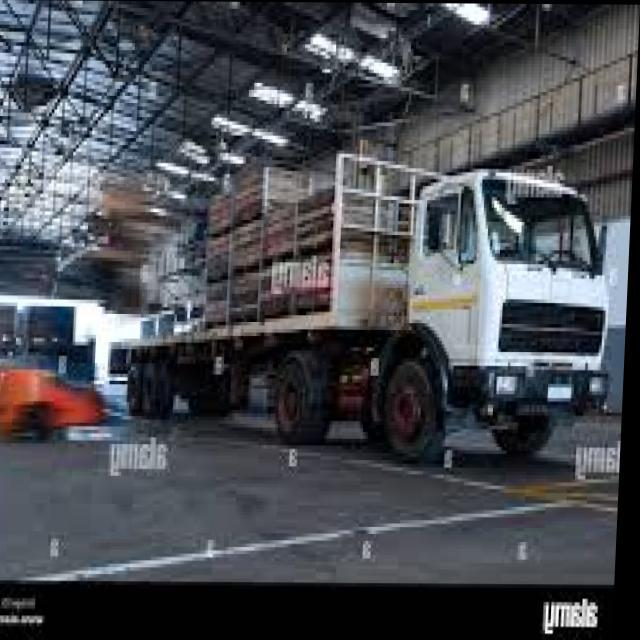uncovered: (126, 153, 615, 460)
